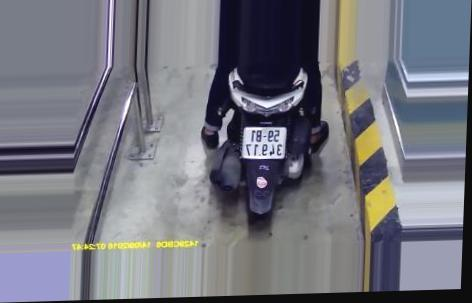License_Plate: (236, 124, 291, 162)
